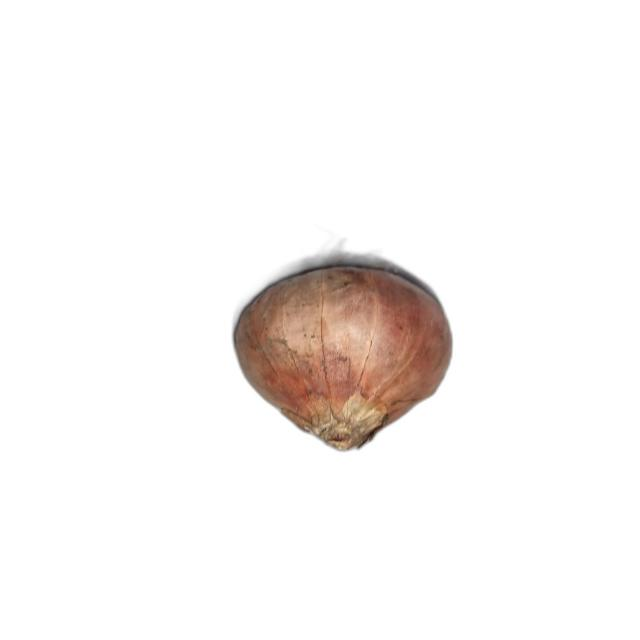onion: (233, 265, 454, 452)
